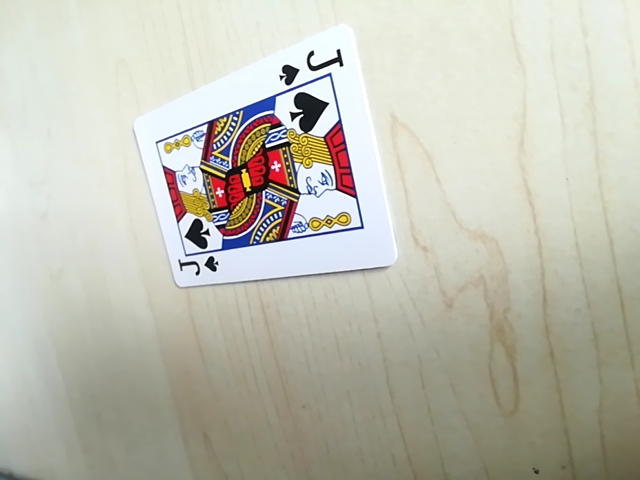ht j: (279, 43, 346, 90), (170, 246, 222, 285)
